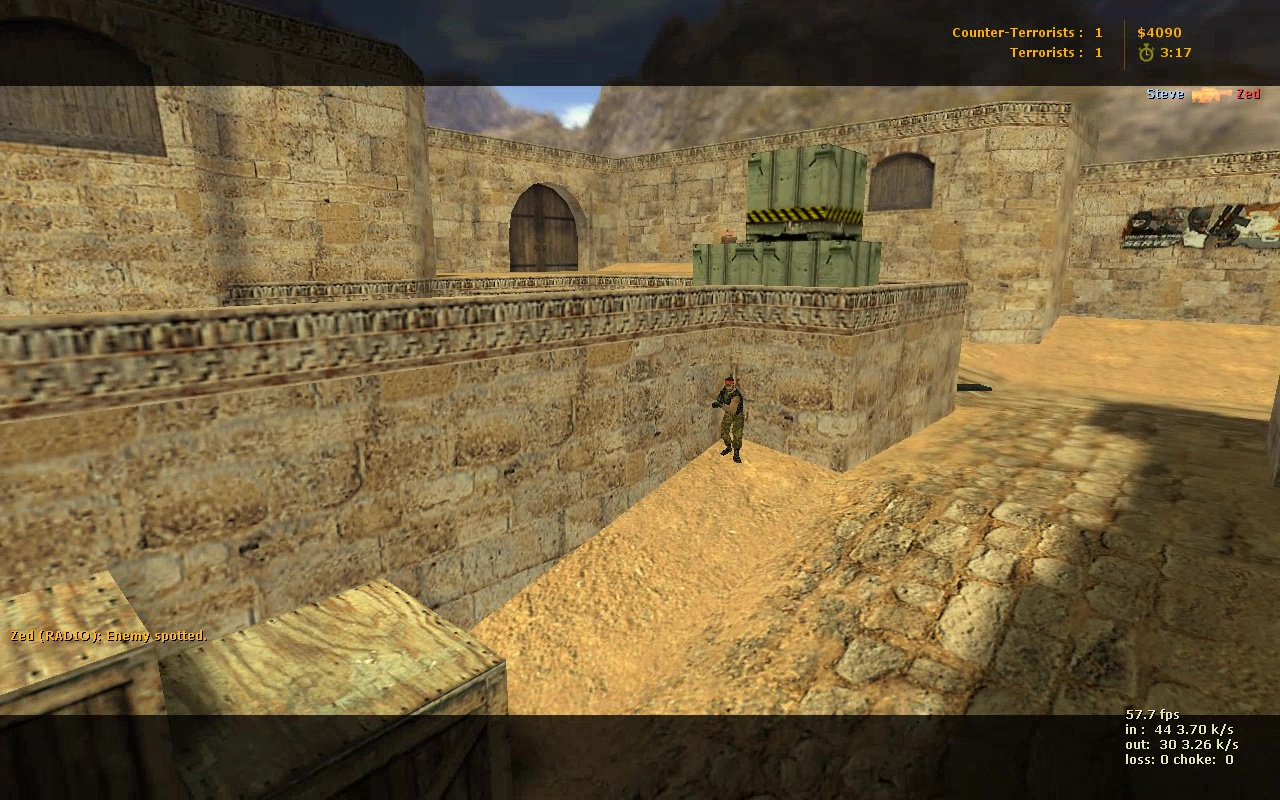terr1: (711, 376, 746, 463)
